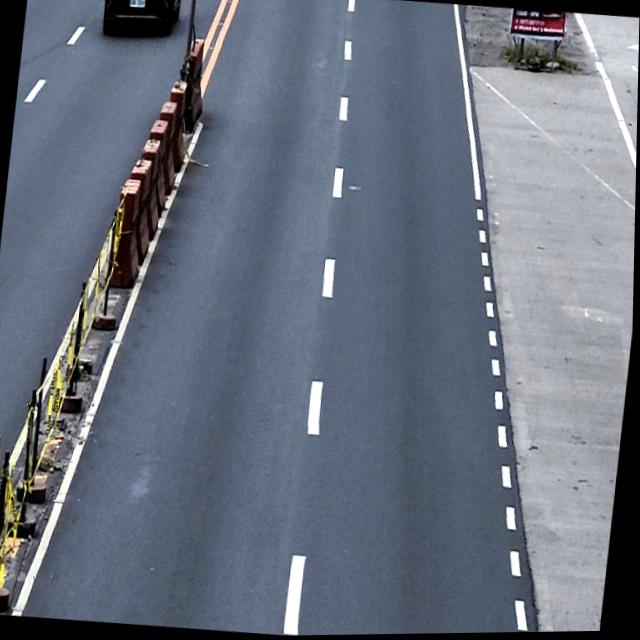Car: (99, 0, 182, 40)
License-Plate: (127, 0, 146, 10)
